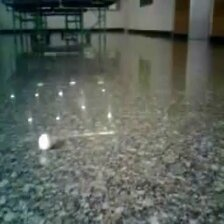w: (37, 132, 52, 150)
